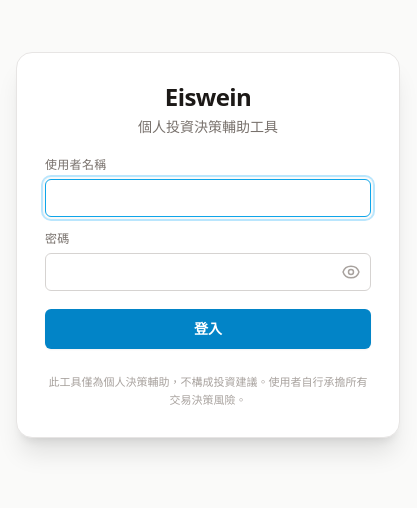
Test case: LoginPage › shows locked_out message with retry_after_seconds
The width and height of the screenshot is (417, 508).
Type "admin" into the field labelled "使用者名稱" at (208, 198), box [45,179,371,217]
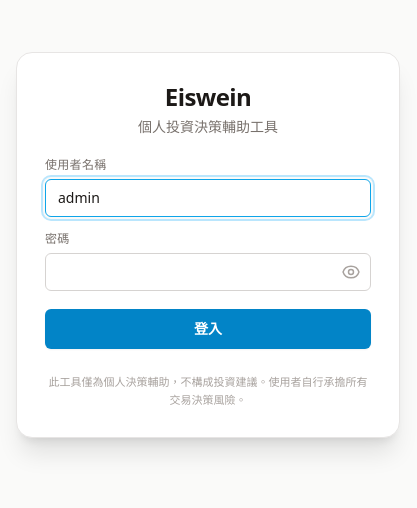
Type "anything" into the password field labelled "密碼" at (208, 272), box [45,253,371,291]
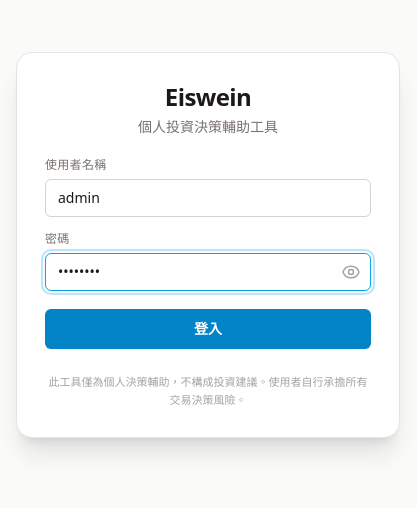
Click the button "登入" at (208, 329), box [45,309,371,349]
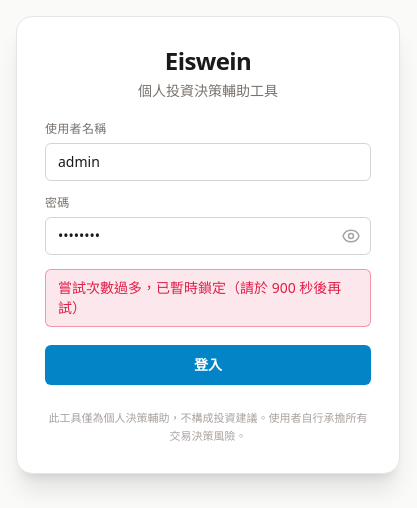
Result: the text "嘗試次數過多，已暫時鎖定（請於 900 秒後再試）" is shown at [45,269,371,327]
